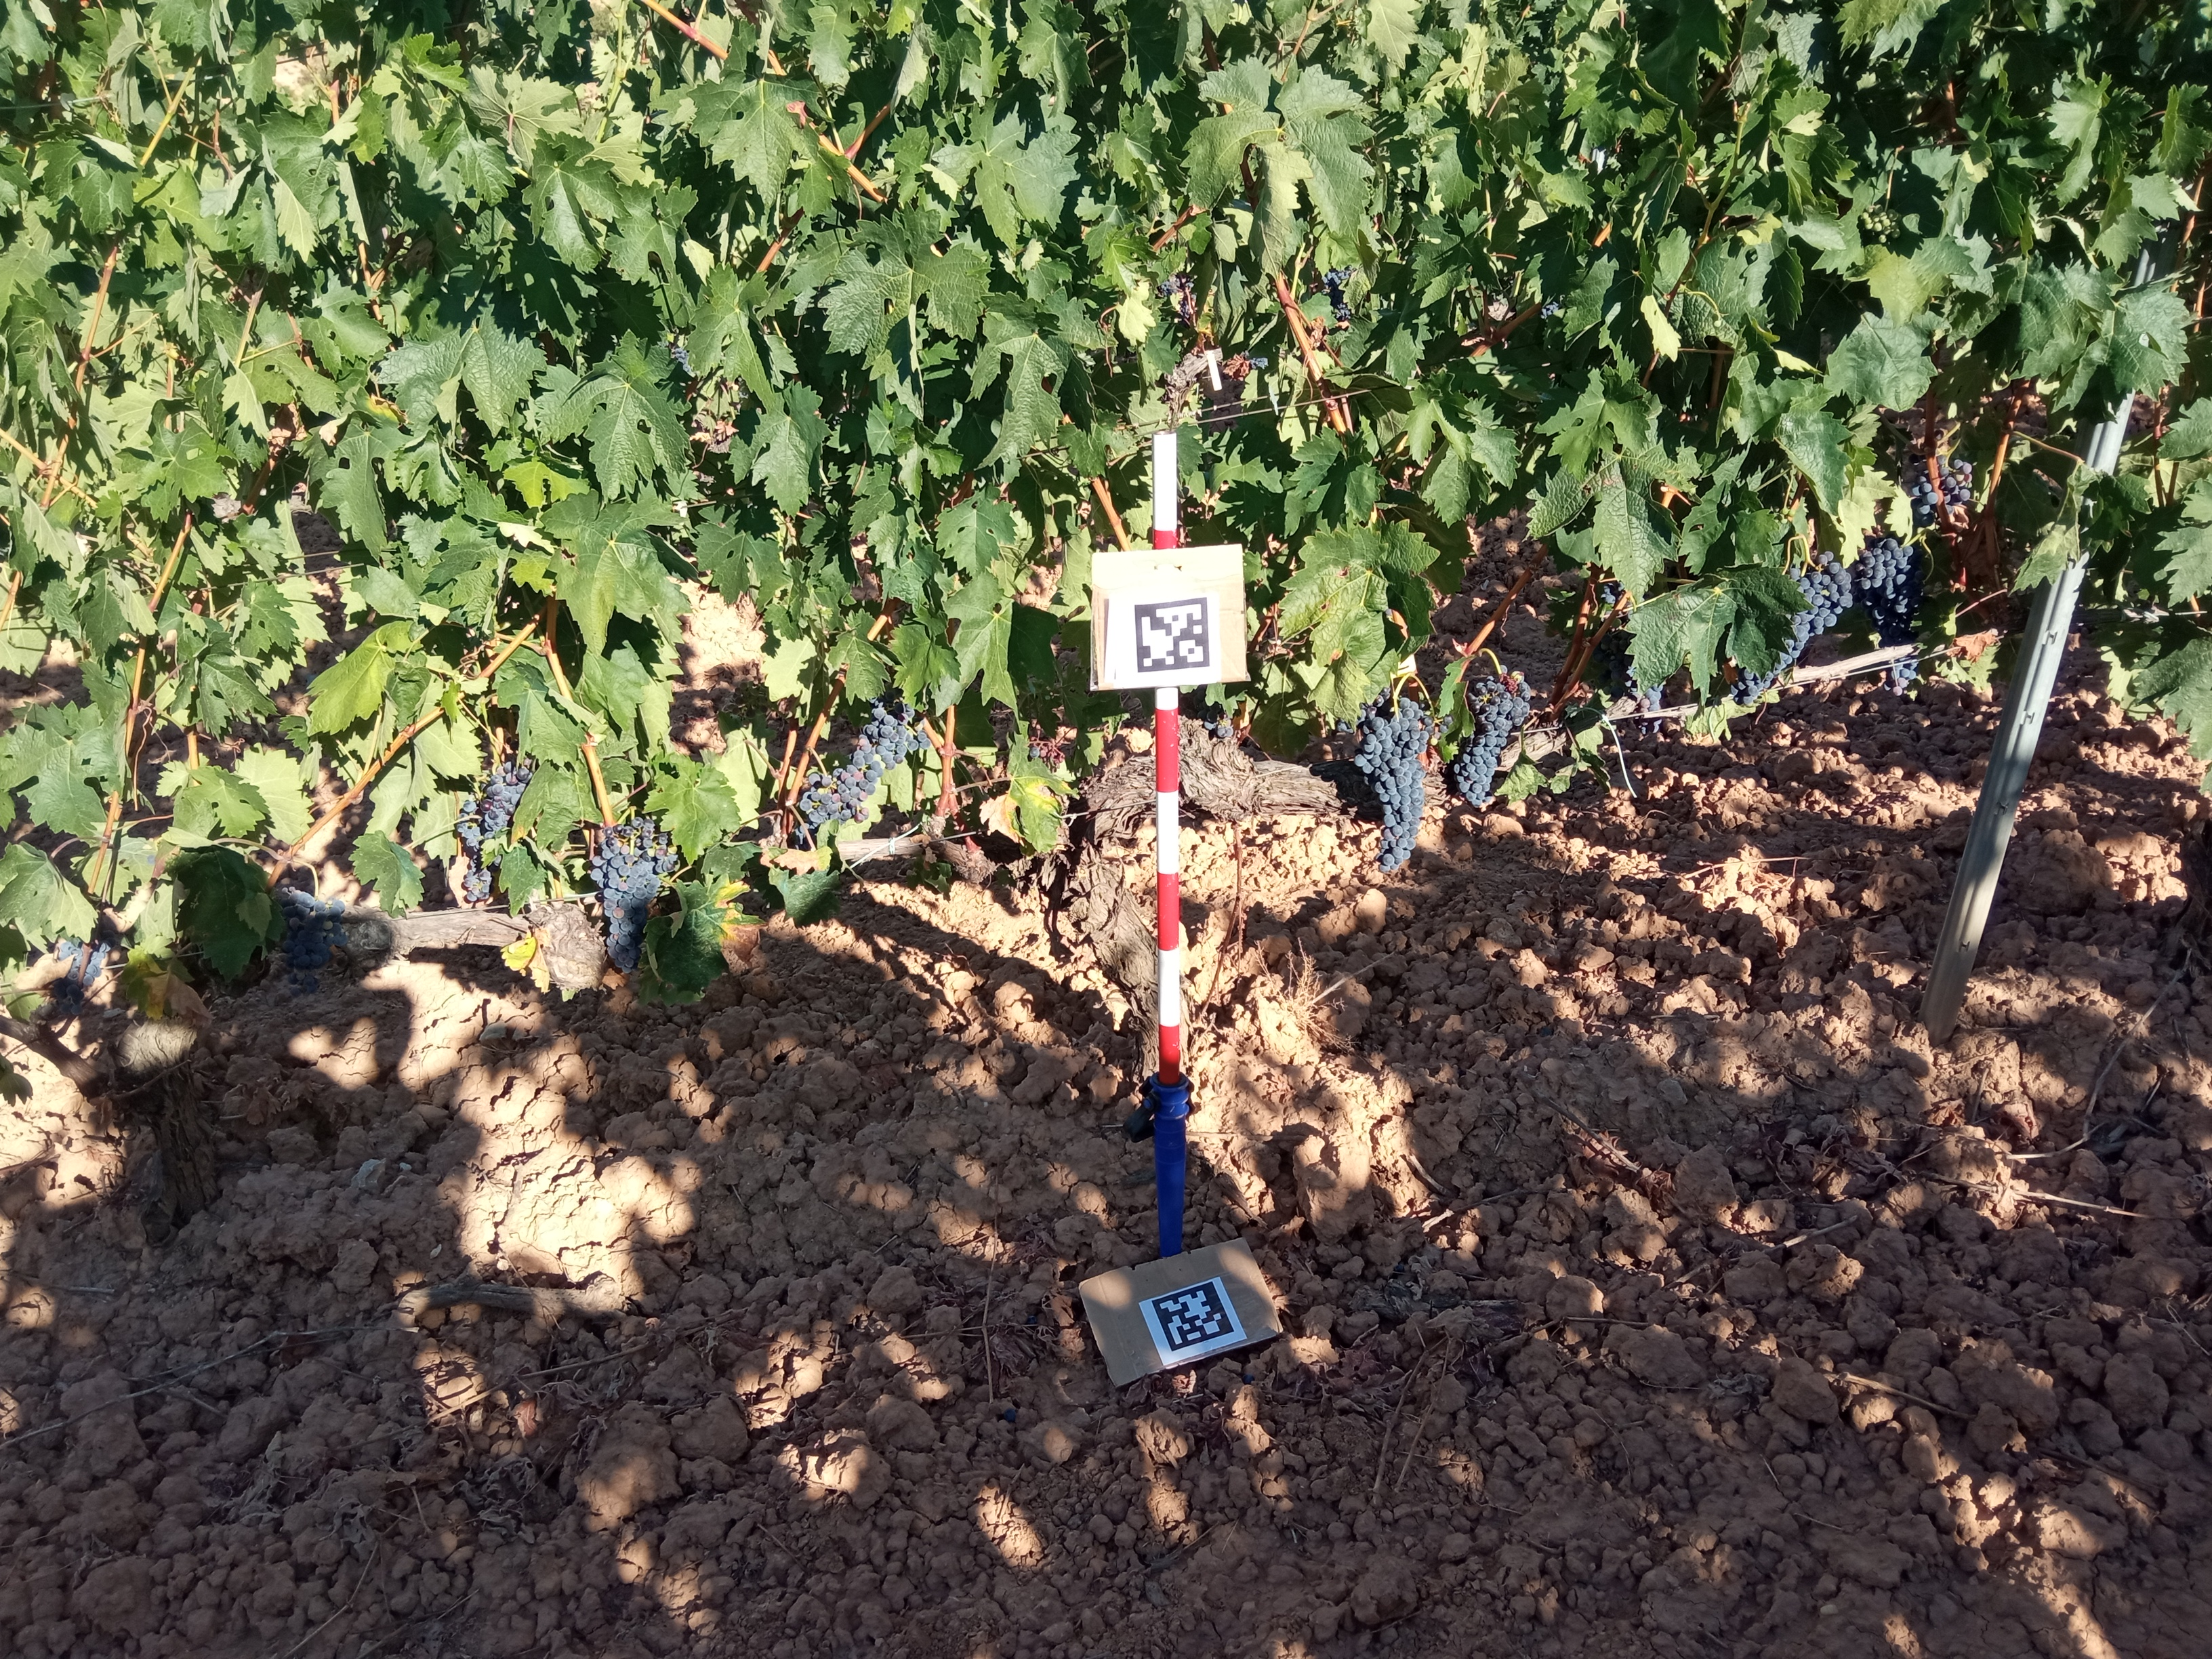grapes: (1730, 549, 1855, 711), (1334, 683, 1439, 875), (589, 812, 681, 978), (1437, 662, 1534, 810), (453, 755, 536, 910), (1850, 533, 1925, 697), (273, 882, 352, 1000), (789, 762, 881, 847), (846, 688, 932, 781), (56, 924, 117, 1016), (1907, 453, 1977, 530), (1587, 617, 1634, 699), (1181, 687, 1242, 741), (1625, 674, 1672, 735), (1601, 579, 1632, 617), (1024, 742, 1045, 762)
